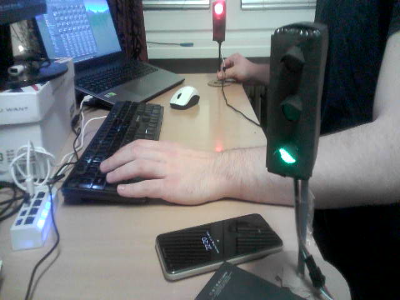trafficlight_green: (271, 35, 317, 172)
trafficlight_red: (213, 3, 225, 42)
